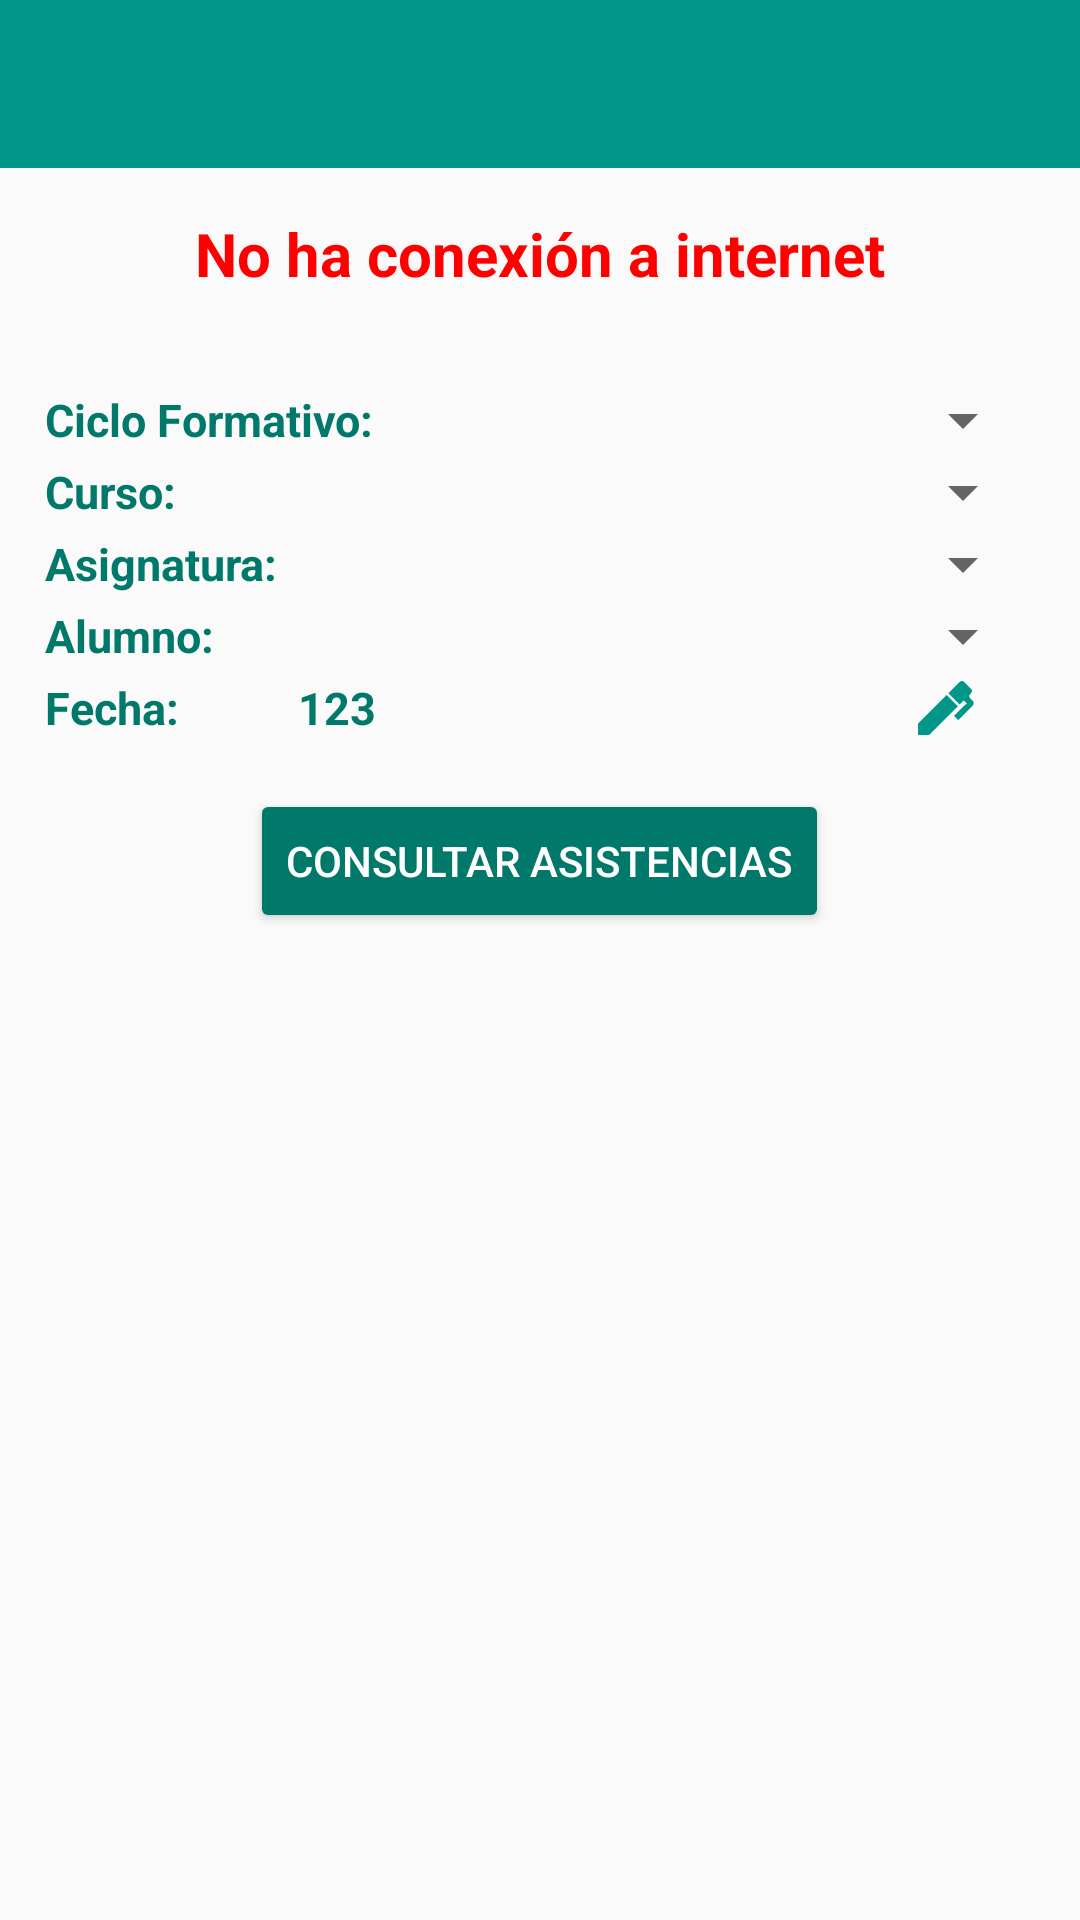

Point at icon controls on the screen. Image size 1080*1920, points as (x=x, y=y).
pen: (x=946, y=708)
